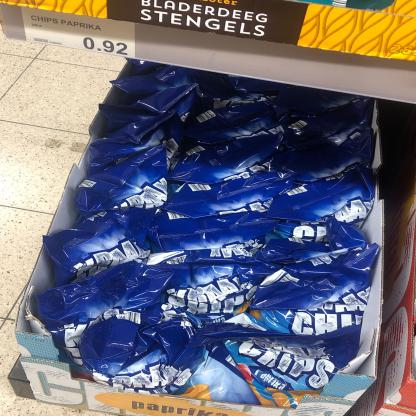prtg: (22, 7, 137, 60)
